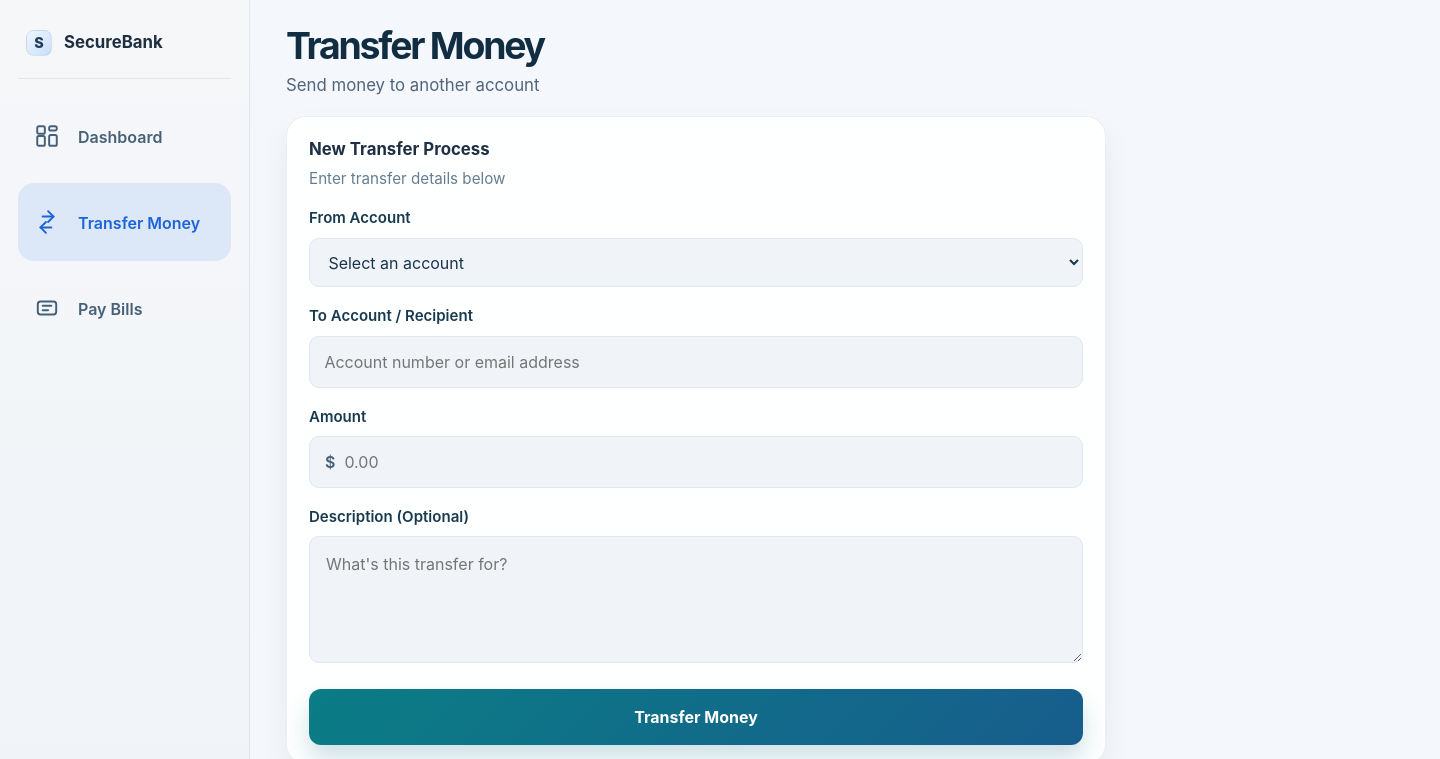
Scenario: Signup screen › renders the transfer screen and submits a valid transfer
The width and height of the screenshot is (1440, 759).
Check: the heading "Transfer Money" is shown, box [286,23,544,68]
Check: the heading "New Transfer Process" is shown, box [309,139,490,159]
Select "Checking (...1001) - $2450.75" in the dropdown named "source account" at (696, 263), box [309,238,1083,287]
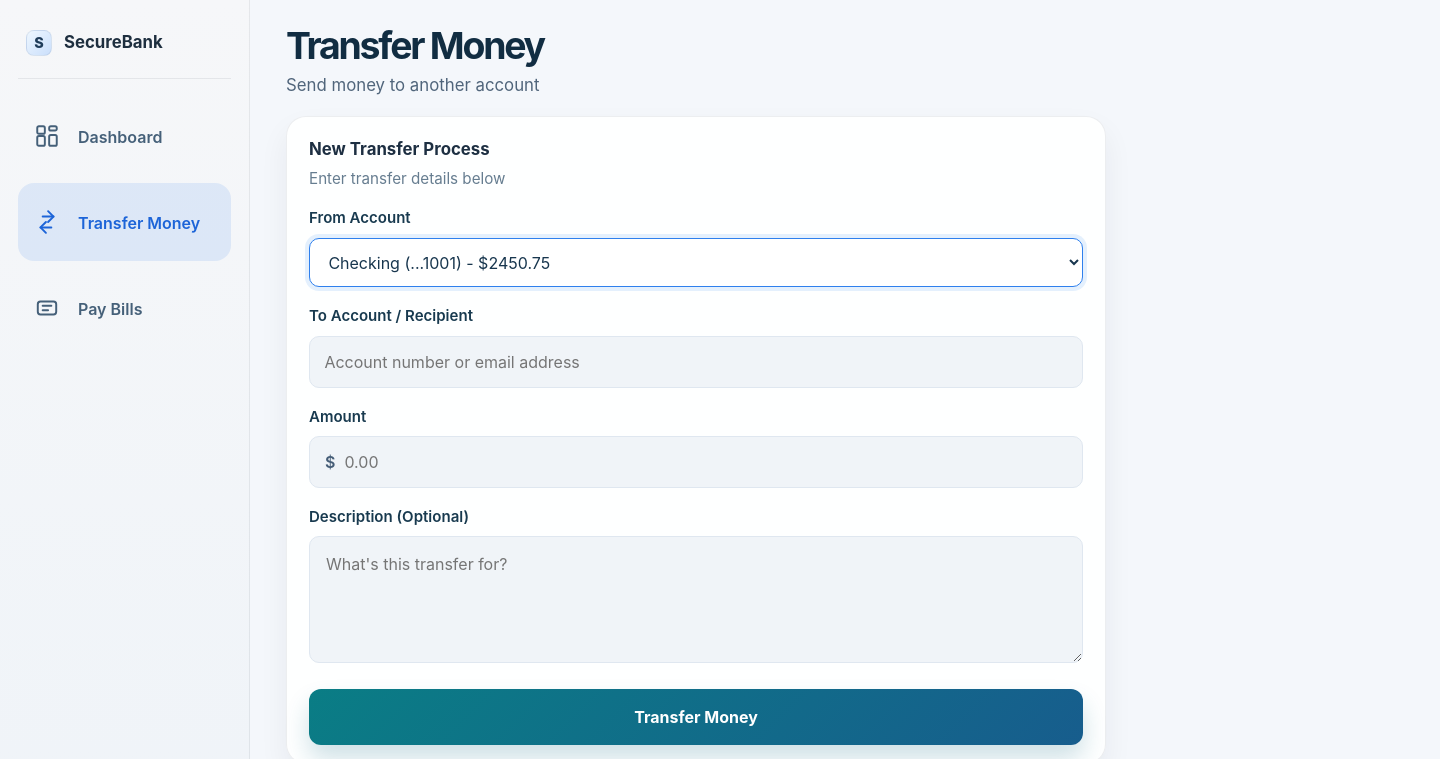
Type "BEN-1001" into the field labelled "To Account / Recipient".
click(696, 362); type("BEN-1001")  # box [309,336,1083,388]
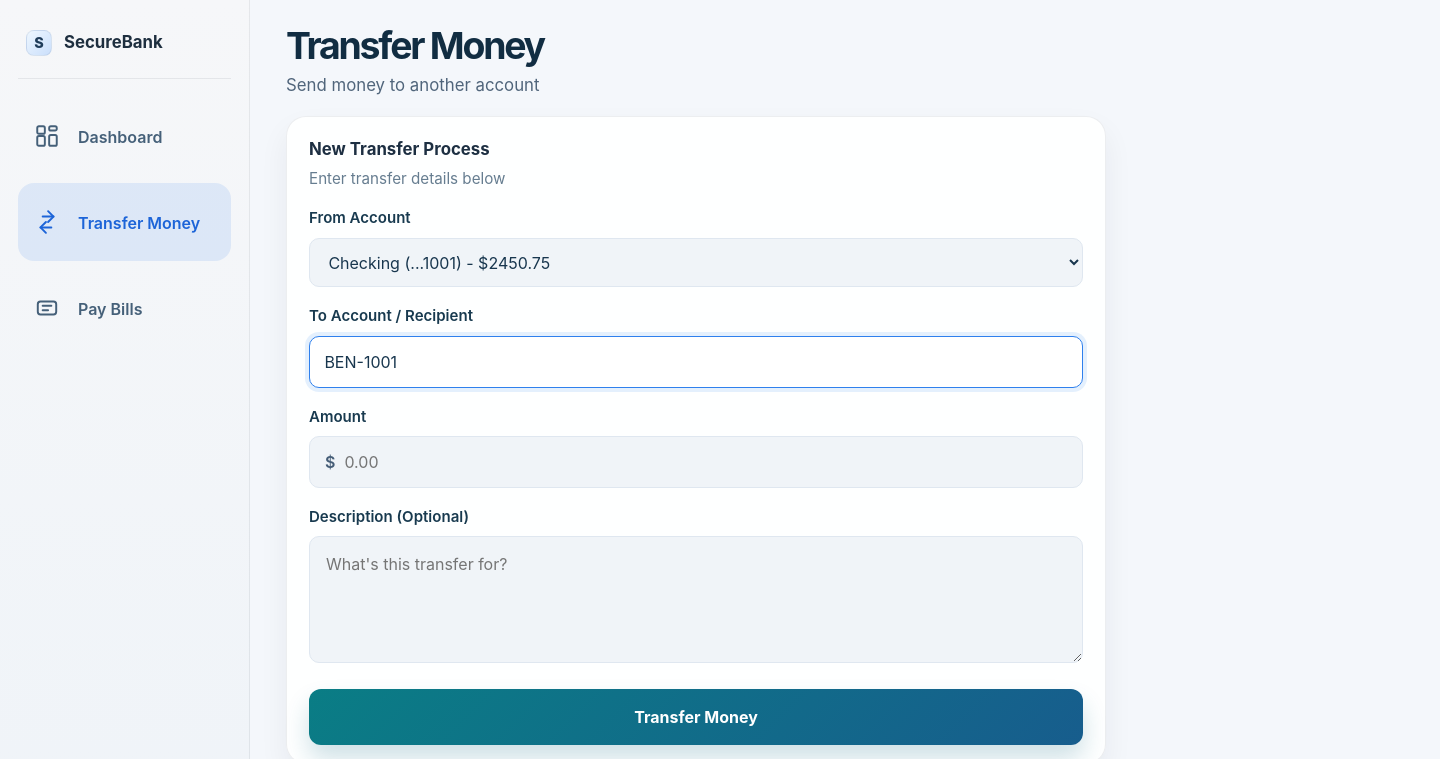
Type "150" into the number field labelled "Amount".
click(696, 462); type("150")  # box [309,436,1083,488]
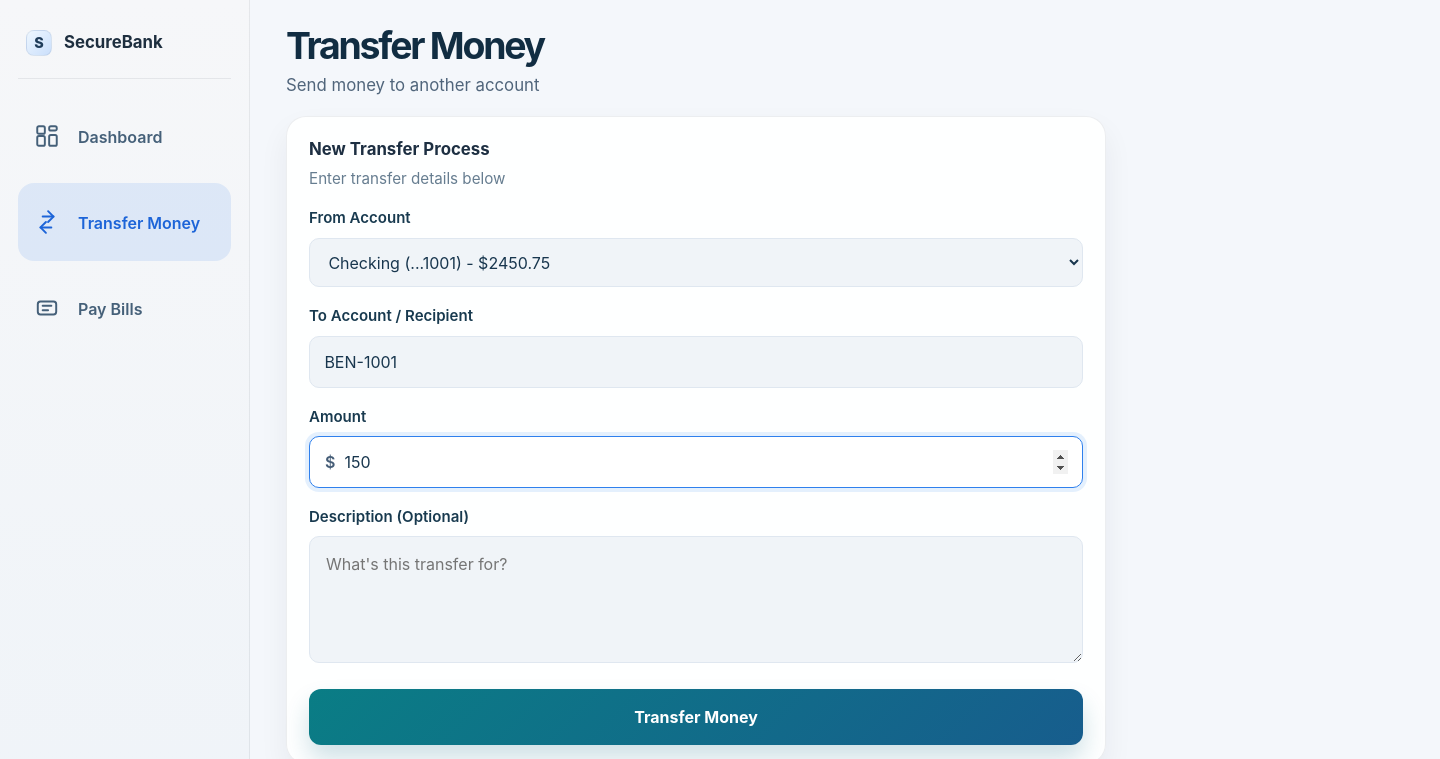
Type "Monthly transfer" into the text box named "memo".
click(696, 600); type("Monthly transfer")  # box [309,536,1083,663]
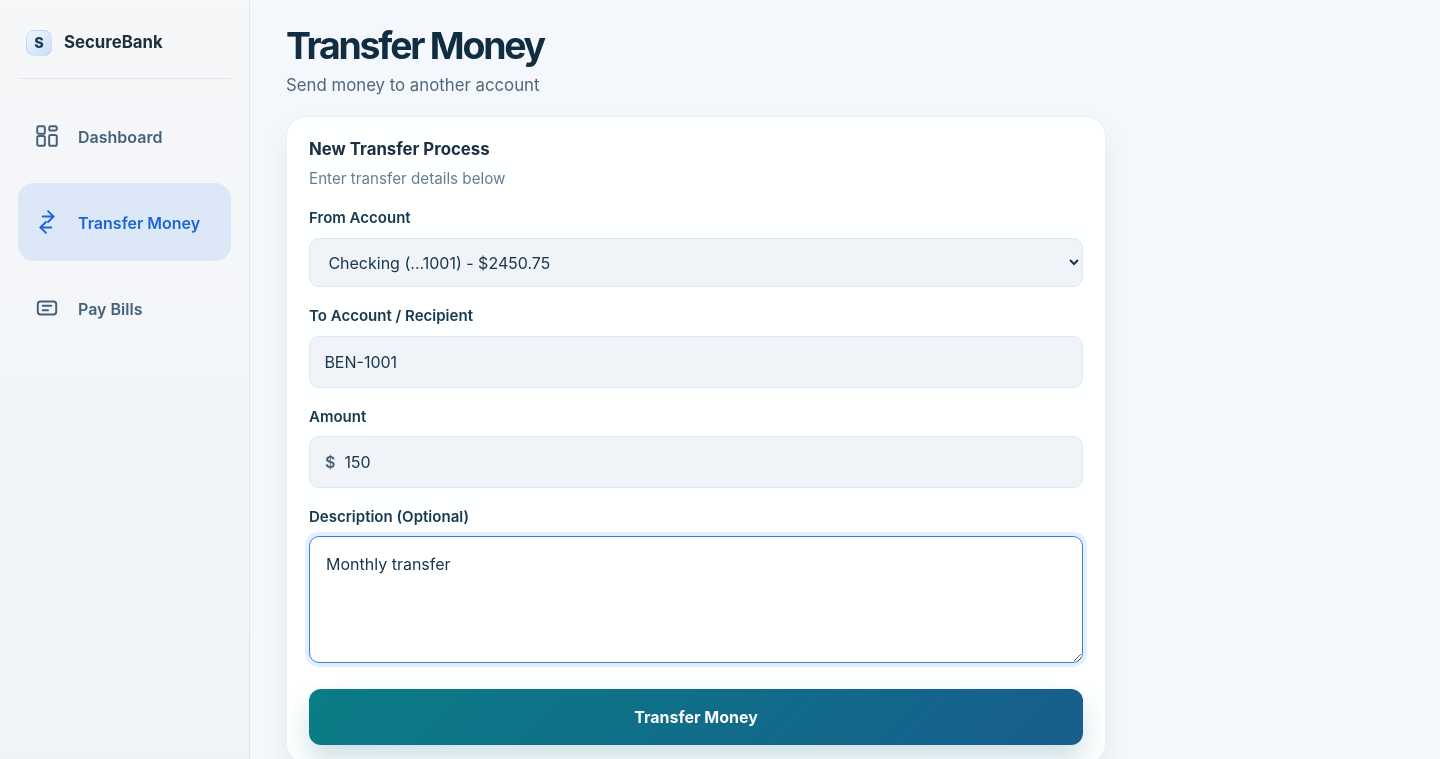
Click the button with aria-label "submit transfer".
click(696, 717)  # box [309,689,1083,745]
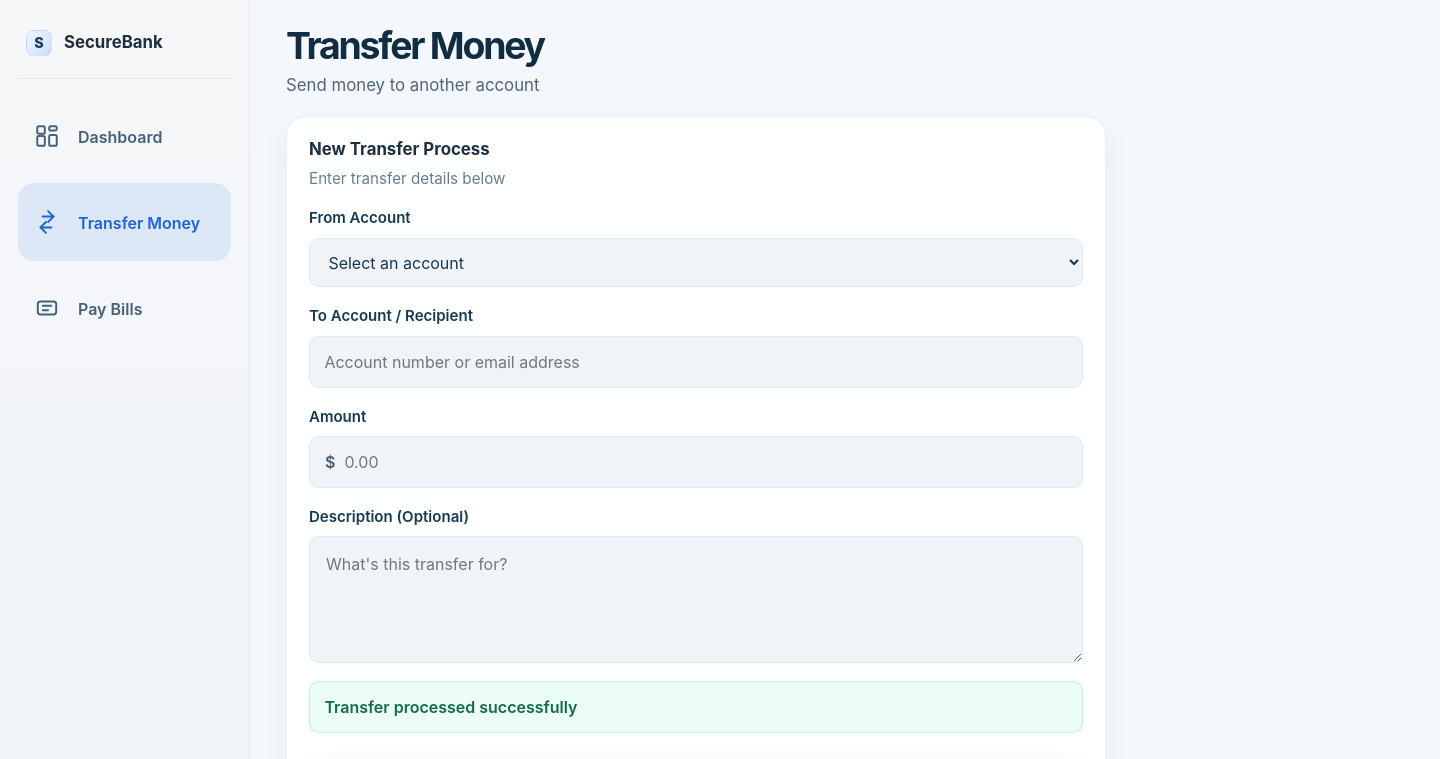
Check: the text "Transfer processed successfully" is shown, box [309,681,1083,733]
